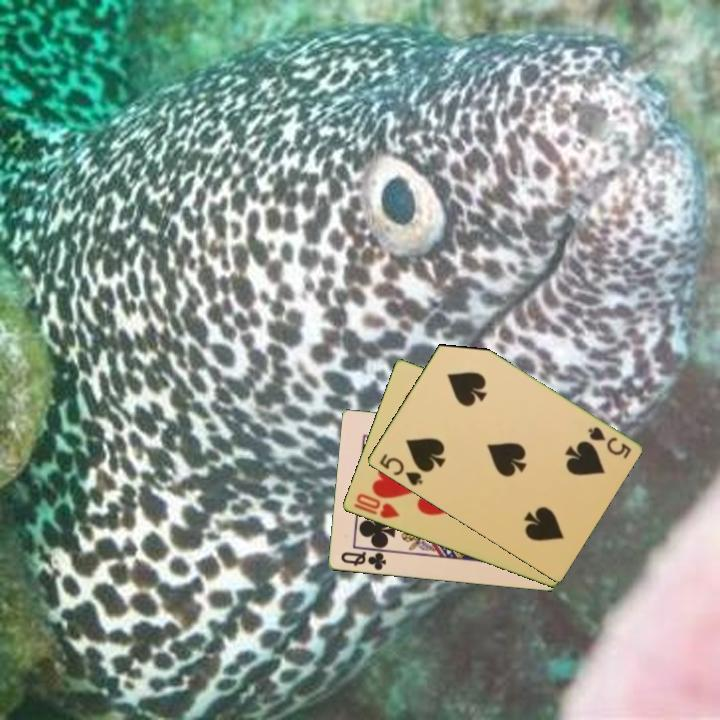10h: (350, 490, 402, 522)
5s: (375, 450, 426, 489), (584, 423, 634, 462)
Qc: (337, 548, 389, 573)
